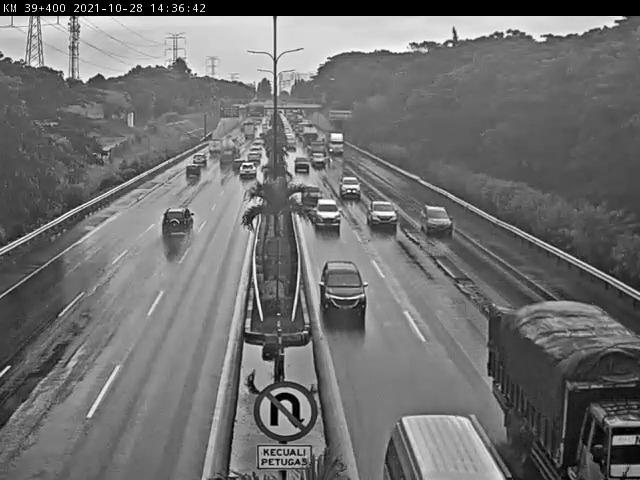car: (322, 262, 365, 324), (603, 307, 640, 360), (164, 205, 203, 251), (411, 197, 452, 226), (351, 194, 396, 220), (314, 196, 341, 223), (348, 164, 369, 195), (299, 181, 321, 200), (242, 162, 262, 182), (178, 167, 198, 182)
small bus: (452, 284, 629, 462), (395, 365, 486, 480)
